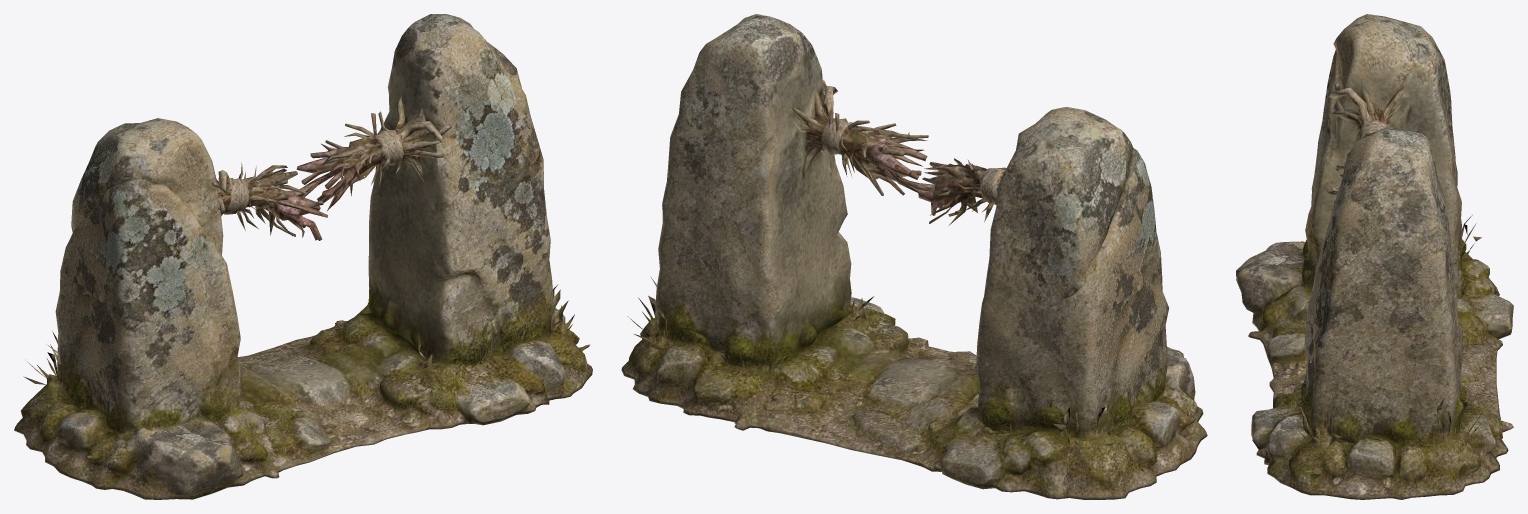
Rendered from kit_lw_stone_c.glb.
3 views of the same model, side by side, from view 1: azimuth 30°, elevation 25°; view 2: azimuth 150°, elevation 25°; view 3: azimuth 270°, elevation 25° (orthographic). The views are drawn at different scales.
Visible parts, largest first — view 1: kit_lw_stone_c; view 2: kit_lw_stone_c; view 3: kit_lw_stone_c.
Boxes of the visible parts, <box> form: kit_lw_stone_c: <box>14,14,592,499</box>; kit_lw_stone_c: <box>621,14,1207,499</box>; kit_lw_stone_c: <box>1236,14,1513,499</box>.
Bounding box in the file's own units: 2 × 1.27 × 1.01.
1 material, 1 textured.
